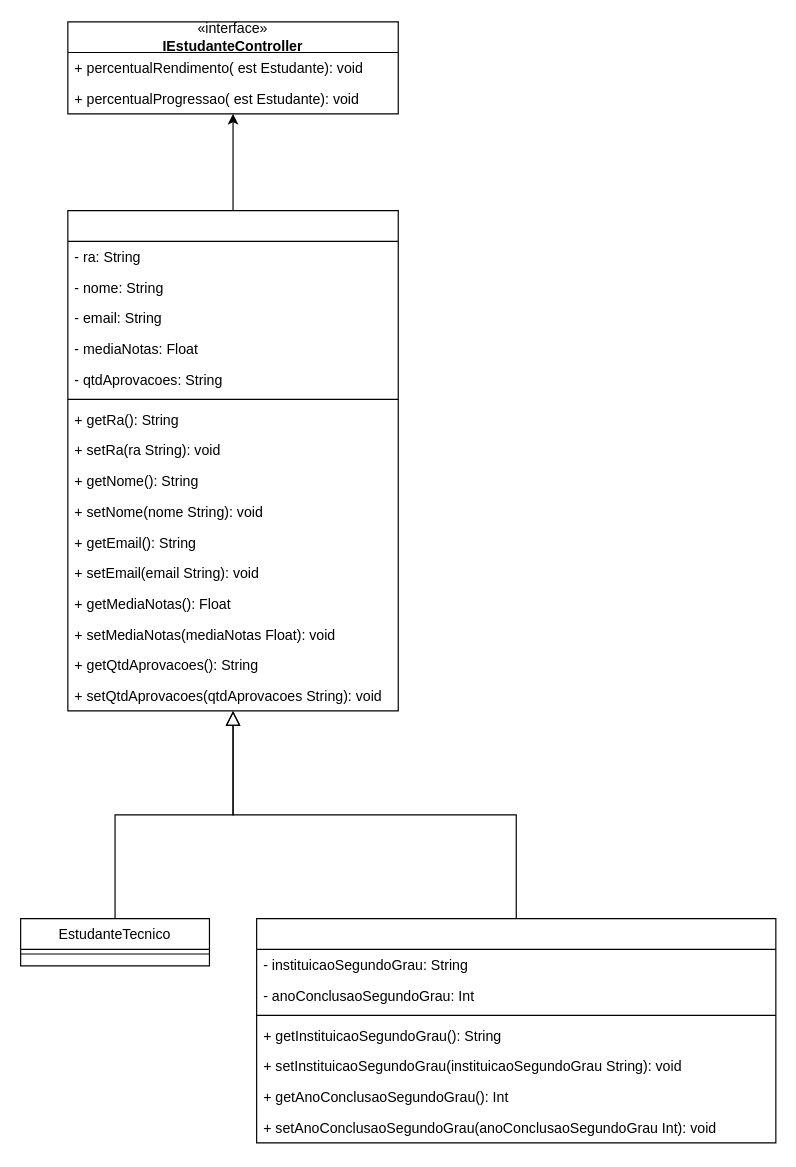
The diagram is 796 pixels wide and 1167 high, and some of its shapes have lost their labels. Each missing label, with the box of its shape:
Estudante: (67, 209, 398, 711)
EstudanteSuperior: (255, 917, 776, 1143)
